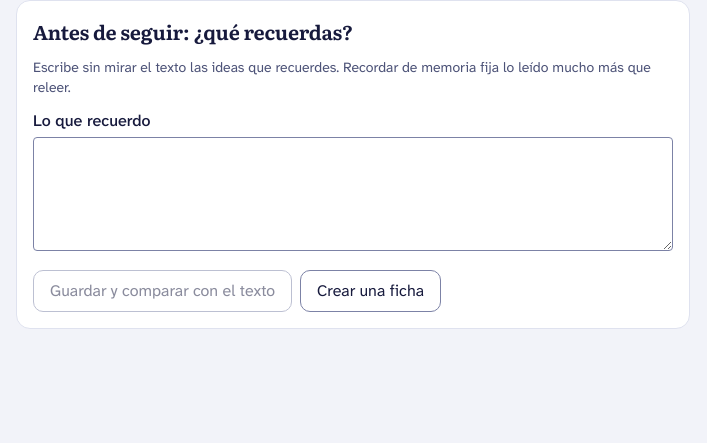
Test: RecallStep › guarda el recuerdo, muestra el texto para comparar y registra una autoevaluación
Type "Lo que recuerdo" into the text box labelled "Lo que recuerdo" at (353, 194), box top-left (33, 137), bottom-right (673, 251)
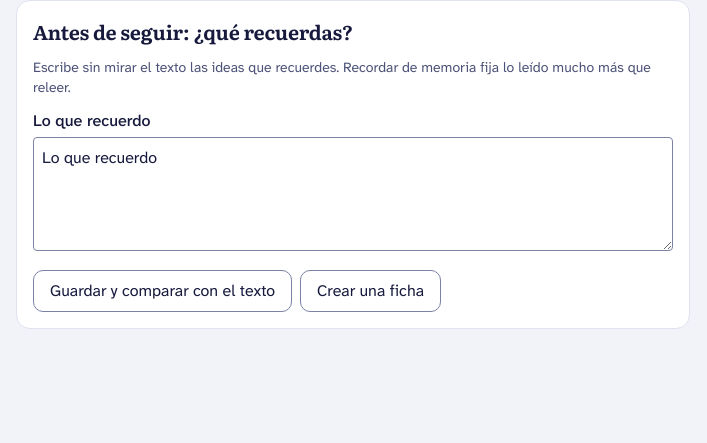
Click the button "Guardar y comparar con el texto" at (162, 291), box top-left (33, 270), bottom-right (292, 312)
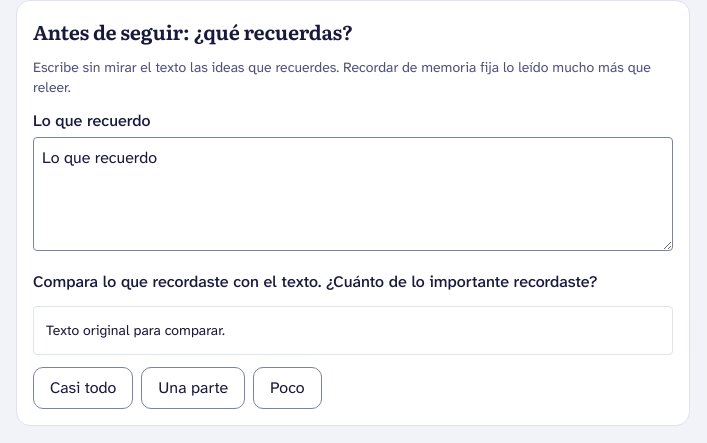
Check: the text "Texto original para comparar." is shown, box top-left (46, 321), bottom-right (225, 339)
Click the button "Una parte" at (193, 388), box top-left (141, 367), bottom-right (245, 409)
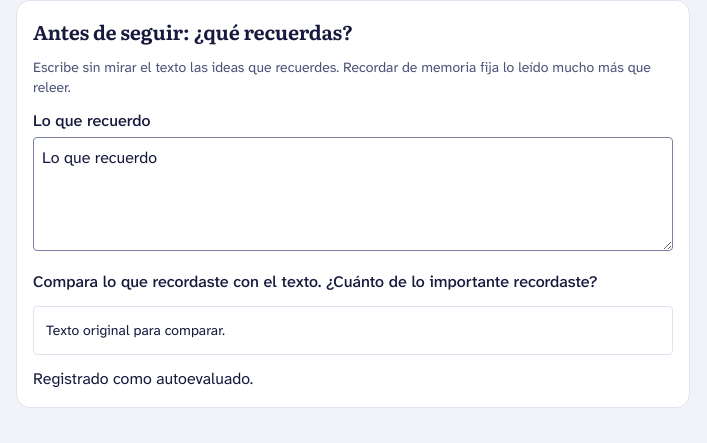
Check: the text "Registrado como autoevaluado." is shown, box top-left (33, 368), bottom-right (253, 389)
